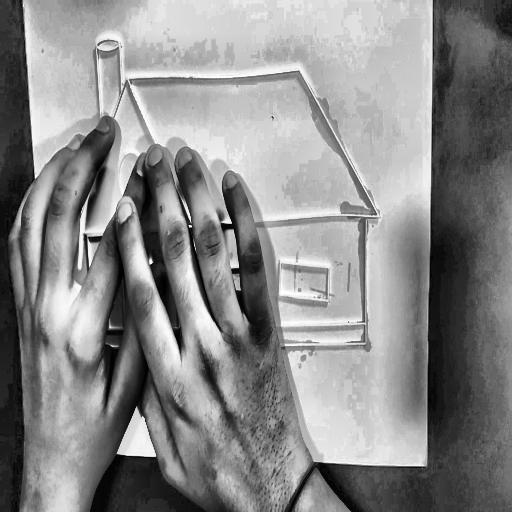bottom_left: (51, 441, 62, 460)
bottom_right: (421, 455, 432, 475)
house: (52, 26, 393, 362)
